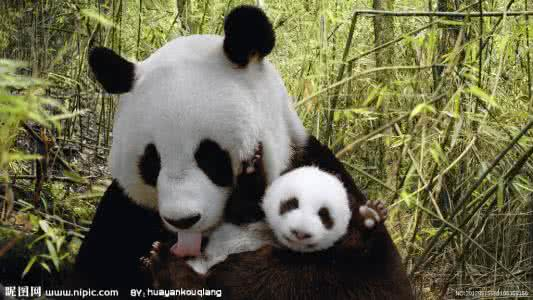panda: (53, 4, 414, 300), (227, 153, 387, 272)
